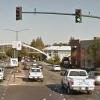Traffic light: (70, 5, 90, 30)
